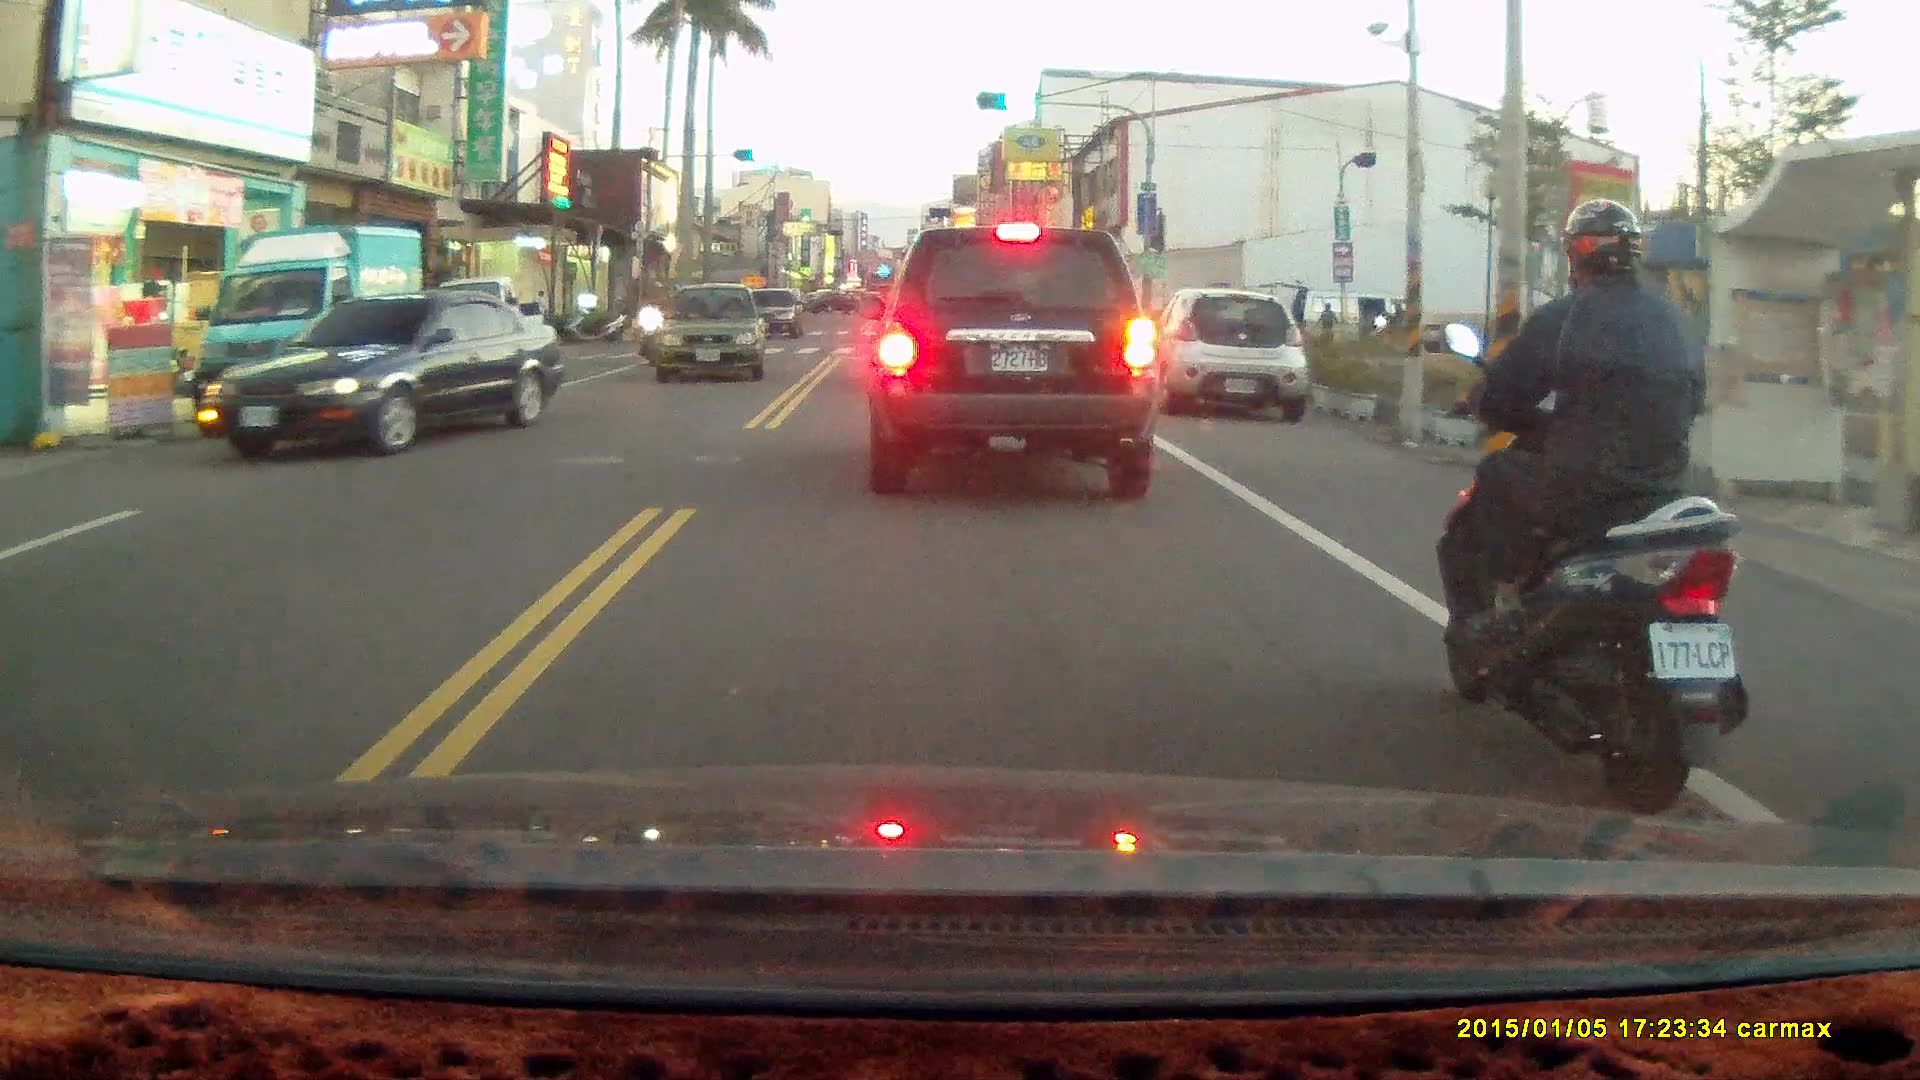rider: (1433, 197, 1748, 814), (631, 280, 674, 369)
vehicle: (864, 225, 1157, 503), (201, 292, 568, 461), (185, 227, 433, 419), (1150, 288, 1309, 427), (651, 283, 769, 387)
